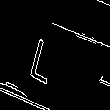L_N: (39, 26, 71, 84)
